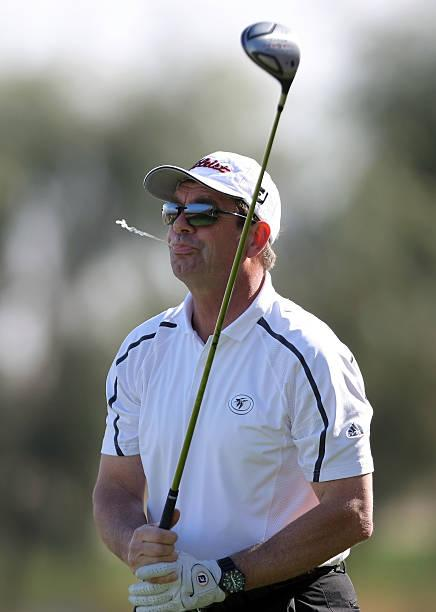Spitting: (103, 127, 436, 293)
